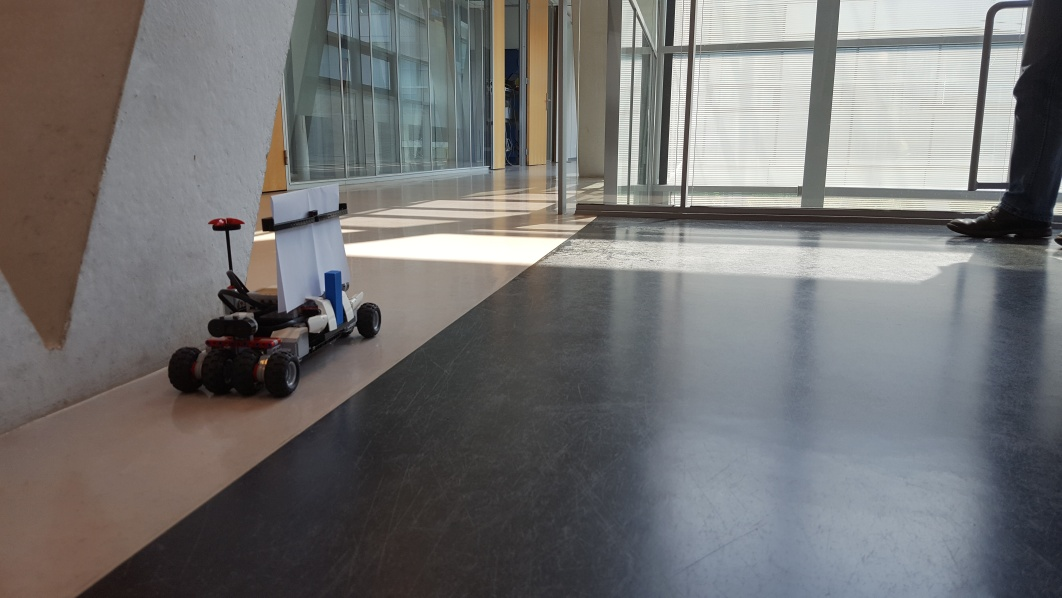beam: (323, 267, 347, 326)
